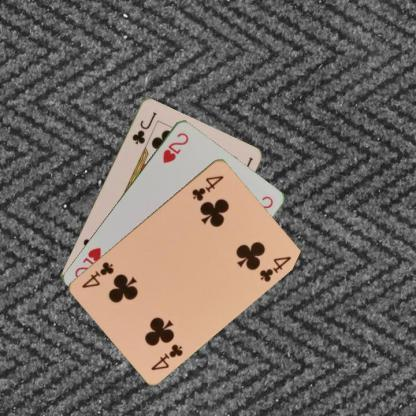2h: (160, 130, 190, 164)
4c: (189, 172, 225, 202), (148, 341, 184, 371)
Jc: (129, 108, 158, 146)
